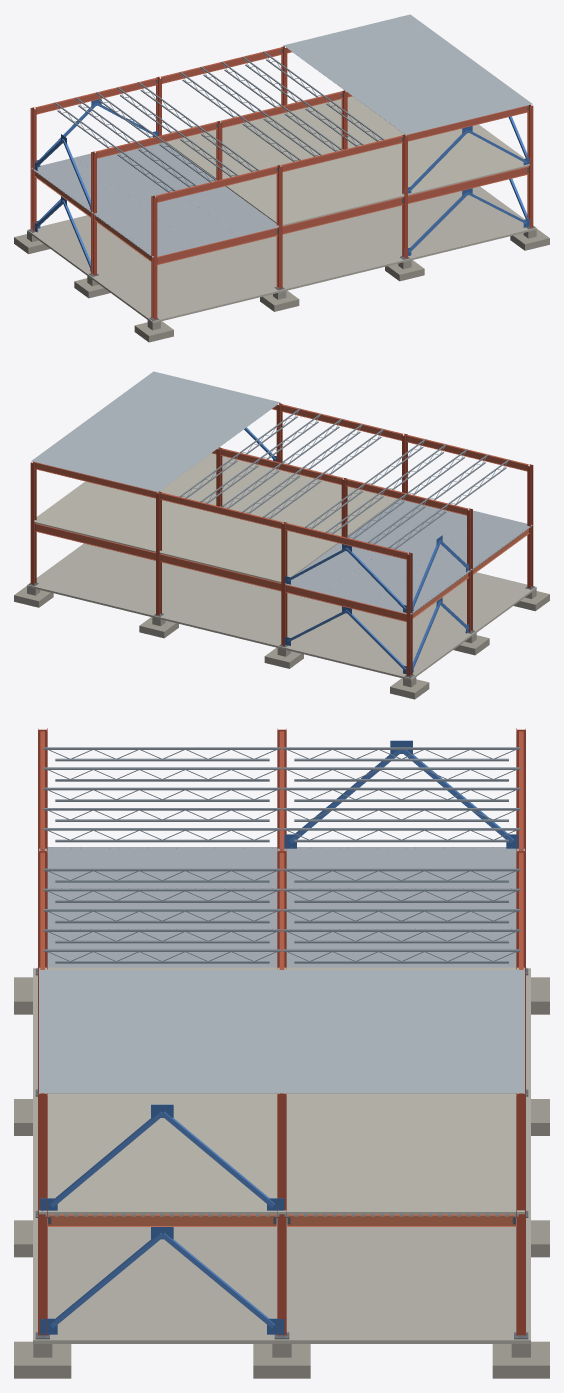
The model's file is steel-frame.glb.
3 renders of one model, top to bottom at view 1: azimuth 30°, elevation 25°; view 2: azimuth 150°, elevation 25°; view 3: azimuth 270°, elevation 25°, orthographic. The views are drawn at different scales.
Visible parts, largest first — view 1: slabOnGrade, slab, roofDeck, deck, girder, joist, column, footing, brace, beam, gusset; view 2: slabOnGrade, slab, roofDeck, deck, girder, joist, column, footing, brace, beam, gusset; view 3: roofDeck, slab, slabOnGrade, deck, joist, column, footing, beam, brace, girder, gusset.
Boxes of the visible parts, bbox=[...] form: slabOnGrade: bbox=[27, 186, 536, 323]; slab: bbox=[163, 91, 529, 225]; roofDeck: bbox=[283, 14, 532, 134]; deck: bbox=[31, 142, 278, 257]; girder: bbox=[35, 47, 528, 264]; joist: bbox=[54, 51, 384, 192]; column: bbox=[30, 46, 533, 319]; footing: bbox=[14, 229, 549, 342]; brace: bbox=[34, 102, 527, 268]; beam: bbox=[34, 171, 151, 261]; gusset: bbox=[32, 99, 529, 272]; slabOnGrade: bbox=[27, 543, 536, 680]; slab: bbox=[34, 448, 400, 582]; roofDeck: bbox=[31, 371, 280, 491]; deck: bbox=[285, 499, 532, 614]; girder: bbox=[35, 404, 528, 621]; joist: bbox=[179, 408, 509, 549]; column: bbox=[30, 403, 533, 676]; footing: bbox=[14, 586, 549, 699]; brace: bbox=[244, 427, 468, 670]; beam: bbox=[412, 528, 529, 618]; gusset: bbox=[273, 455, 468, 674]; roofDeck: bbox=[39, 970, 524, 1093]; slab: bbox=[39, 967, 524, 1214]; slabOnGrade: bbox=[33, 968, 530, 1343]; deck: bbox=[39, 847, 524, 1216]; joist: bbox=[43, 747, 520, 963]; column: bbox=[38, 728, 525, 1335]; footing: bbox=[14, 977, 549, 1378]; beam: bbox=[48, 1214, 515, 1226]; brace: bbox=[49, 750, 514, 1328]; girder: bbox=[40, 731, 523, 1093]; gusset: bbox=[40, 740, 518, 1335].
Size of the model in its own units: 0.3901 by 0.129 by 0.2276.
